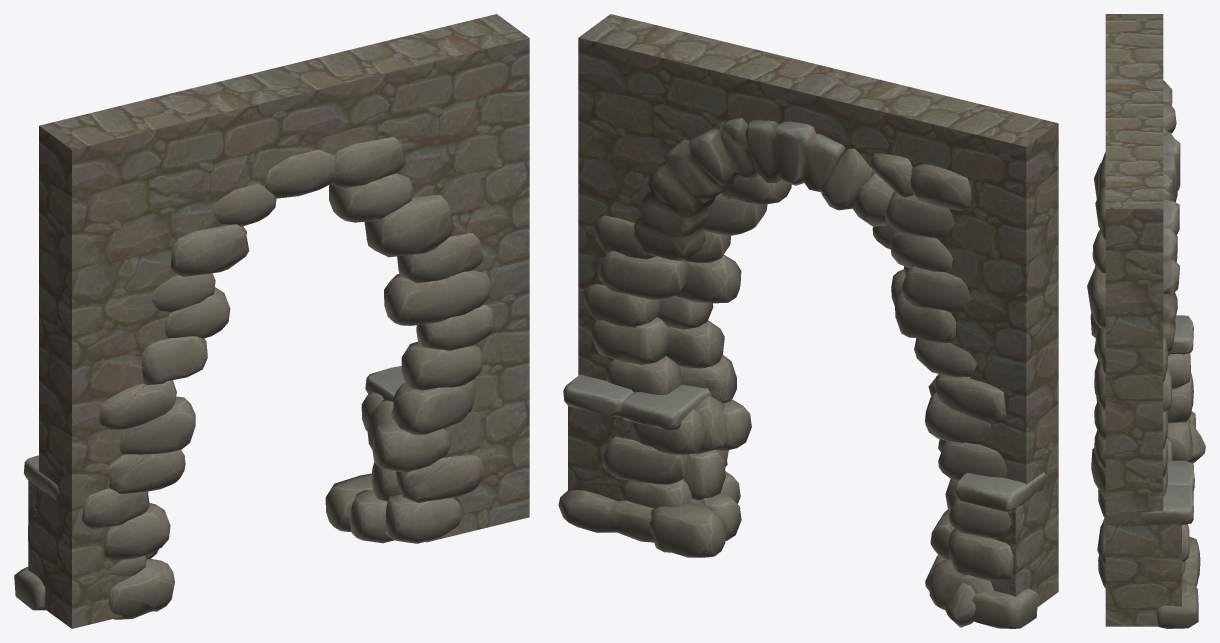
The model's file is SM_FW01_Ruins_Int_Wall_A_4x4_Brkn_01.fbx.
The picture shows the model from 3 angles, left to right: view 1: azimuth 30°, elevation 25°; view 2: azimuth 150°, elevation 25°; view 3: azimuth 270°, elevation 25°; orthographic projection. The views are drawn at different scales.
Visible parts, largest first — view 1: SM_FW01_Ruins_Int_Wall_A_4x4_Brkn_01, SM_FW01_Ruins_Int_Wall_A_4x4_Brkn_01_LOD0; view 2: SM_FW01_Ruins_Int_Wall_A_4x4_Brkn_01_LOD0, SM_FW01_Ruins_Int_Wall_A_4x4_Brkn_01; view 3: SM_FW01_Ruins_Int_Wall_A_4x4_Brkn_01, SM_FW01_Ruins_Int_Wall_A_4x4_Brkn_01_LOD0.
Boxes of the visible parts, x1,y1,x2,y2 form: SM_FW01_Ruins_Int_Wall_A_4x4_Brkn_01: (28,14,529,628); SM_FW01_Ruins_Int_Wall_A_4x4_Brkn_01_LOD0: (14,137,494,619); SM_FW01_Ruins_Int_Wall_A_4x4_Brkn_01_LOD0: (558,118,1046,628); SM_FW01_Ruins_Int_Wall_A_4x4_Brkn_01: (568,14,1058,607); SM_FW01_Ruins_Int_Wall_A_4x4_Brkn_01: (1105,14,1181,626); SM_FW01_Ruins_Int_Wall_A_4x4_Brkn_01_LOD0: (1087,80,1205,628).
Size of what is drawn, in the model's own units: 4.11 by 4.1 by 1.03.
